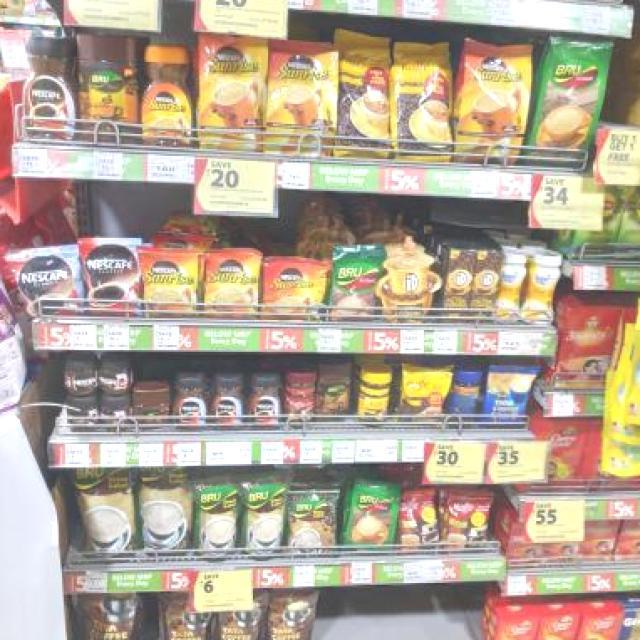Coffee: (461, 41, 529, 162), (197, 32, 264, 152), (269, 37, 334, 152), (22, 33, 74, 140), (143, 44, 190, 148), (82, 239, 136, 314), (141, 250, 199, 318), (207, 254, 260, 320), (20, 254, 76, 316), (266, 260, 325, 316), (174, 374, 208, 427), (248, 373, 281, 426), (214, 374, 244, 430), (66, 398, 98, 431), (101, 360, 130, 396), (66, 360, 96, 394), (102, 400, 131, 430)
